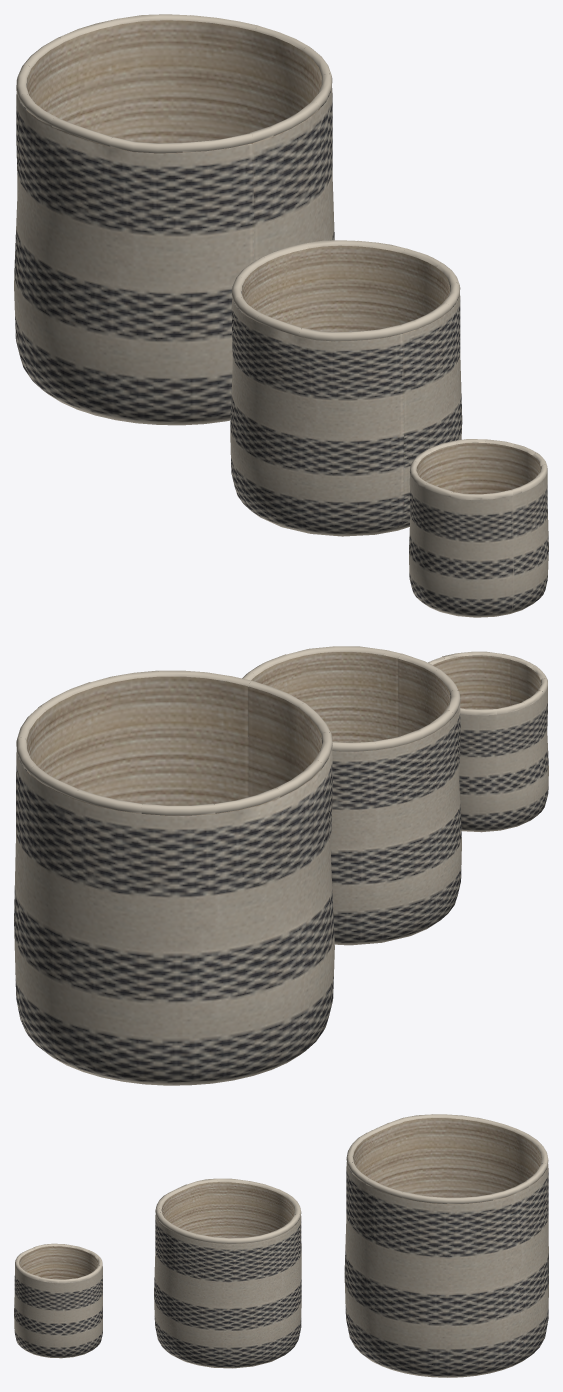
The picture shows the model from 3 angles, top to bottom: view 1: azimuth 30°, elevation 25°; view 2: azimuth 150°, elevation 25°; view 3: azimuth 270°, elevation 25°; orthographic projection. The views are drawn at different scales.
Parts seen in each view (by area): view 1: visual_RootNode; view 2: visual_RootNode; view 3: visual_RootNode.
Boxes of the visible parts, x1,y1,x2,y2 form: visual_RootNode: (14,14,548,617); visual_RootNode: (14,646,548,1085); visual_RootNode: (14,1114,548,1377).
Size of the model in its own units: 0.3517 by 0.9171 by 0.356.
1 material, 1 textured.
